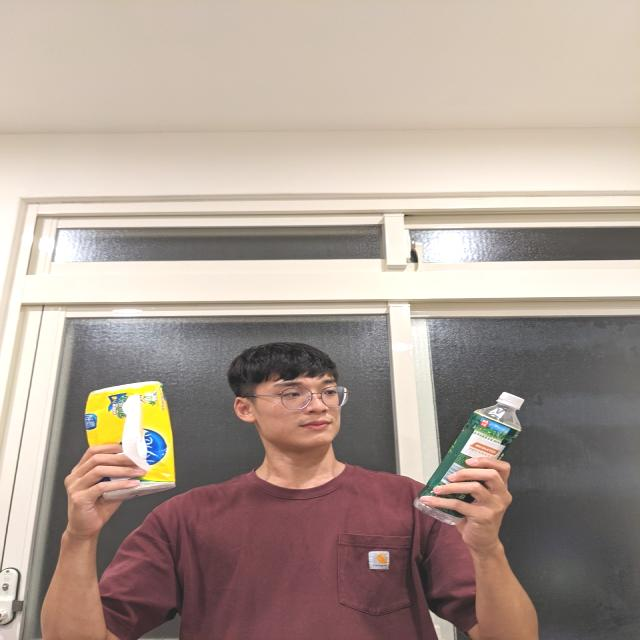bottle: (423, 388, 522, 520)
